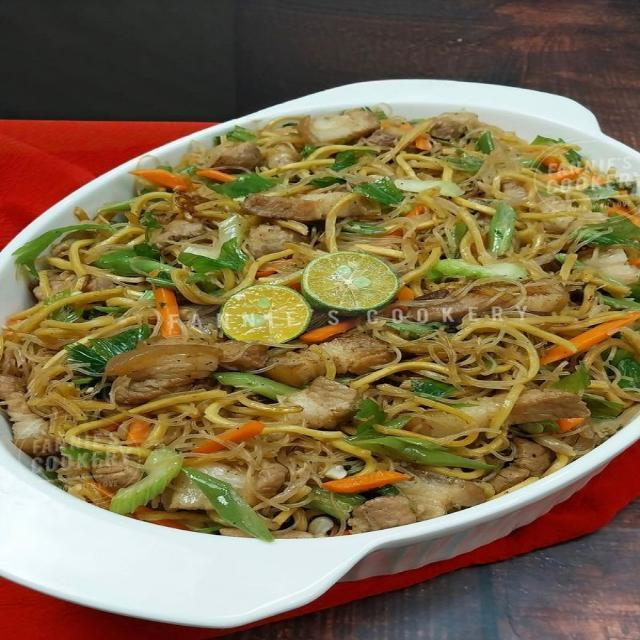pancit bihon: (0, 75, 640, 619)
